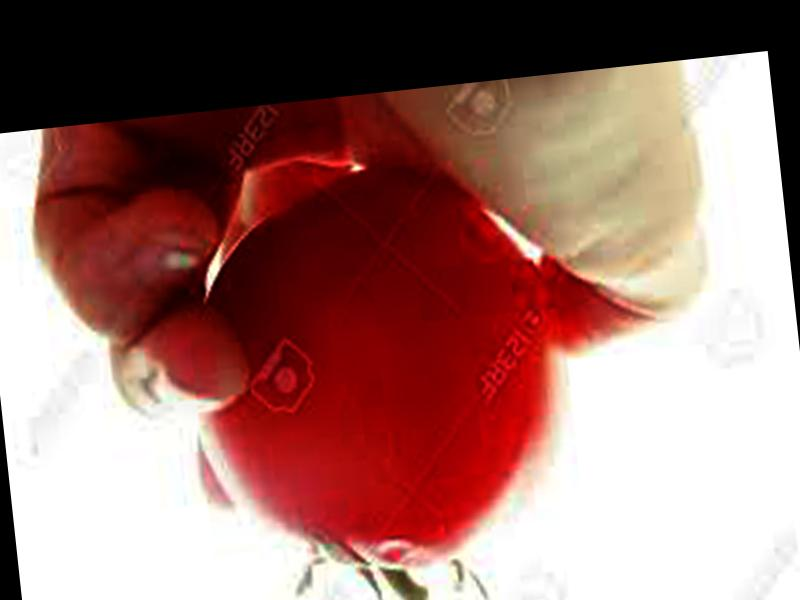Tomato: (171, 157, 581, 594)
